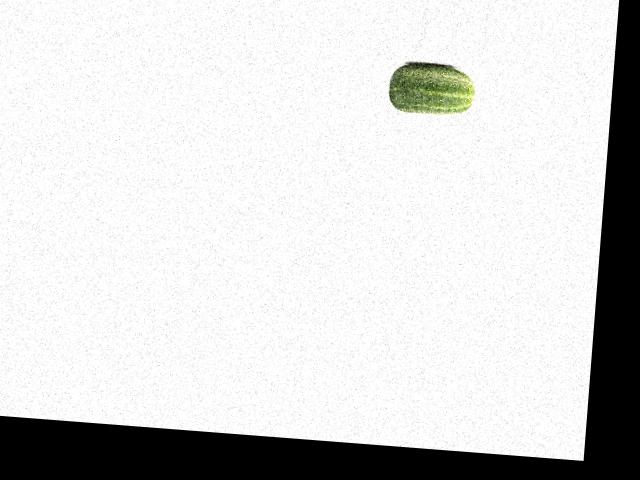cucumber: (386, 61, 475, 116)
